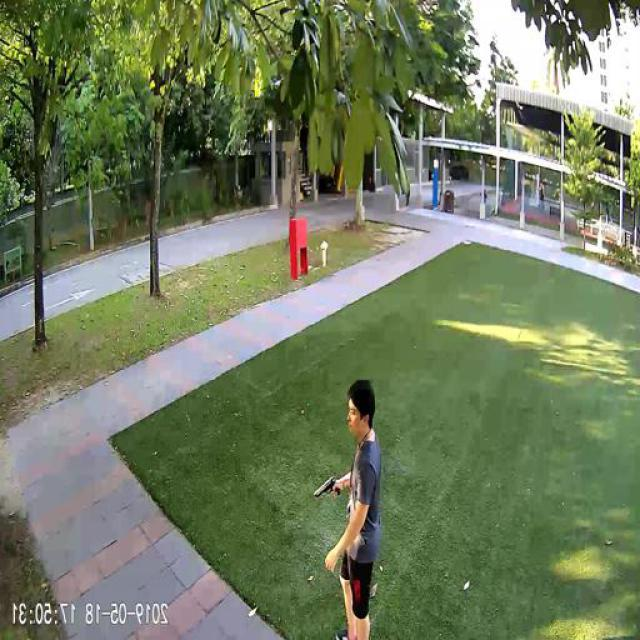Gun: (315, 472, 343, 500)
